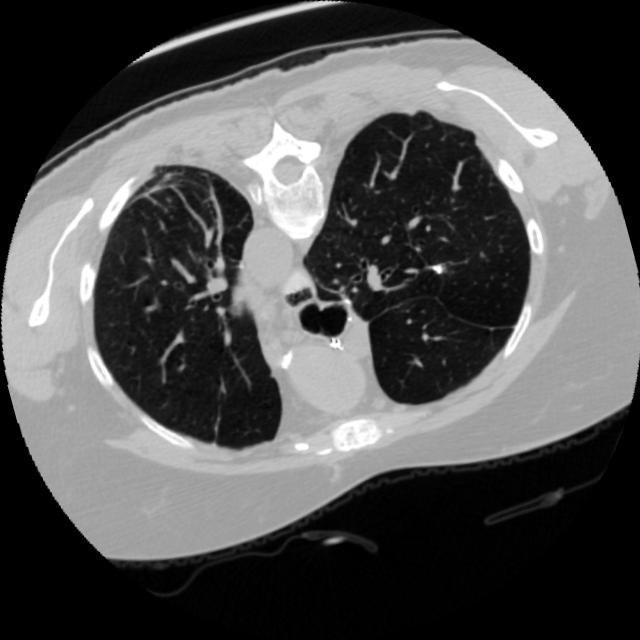nodule: (421, 252, 455, 286)
